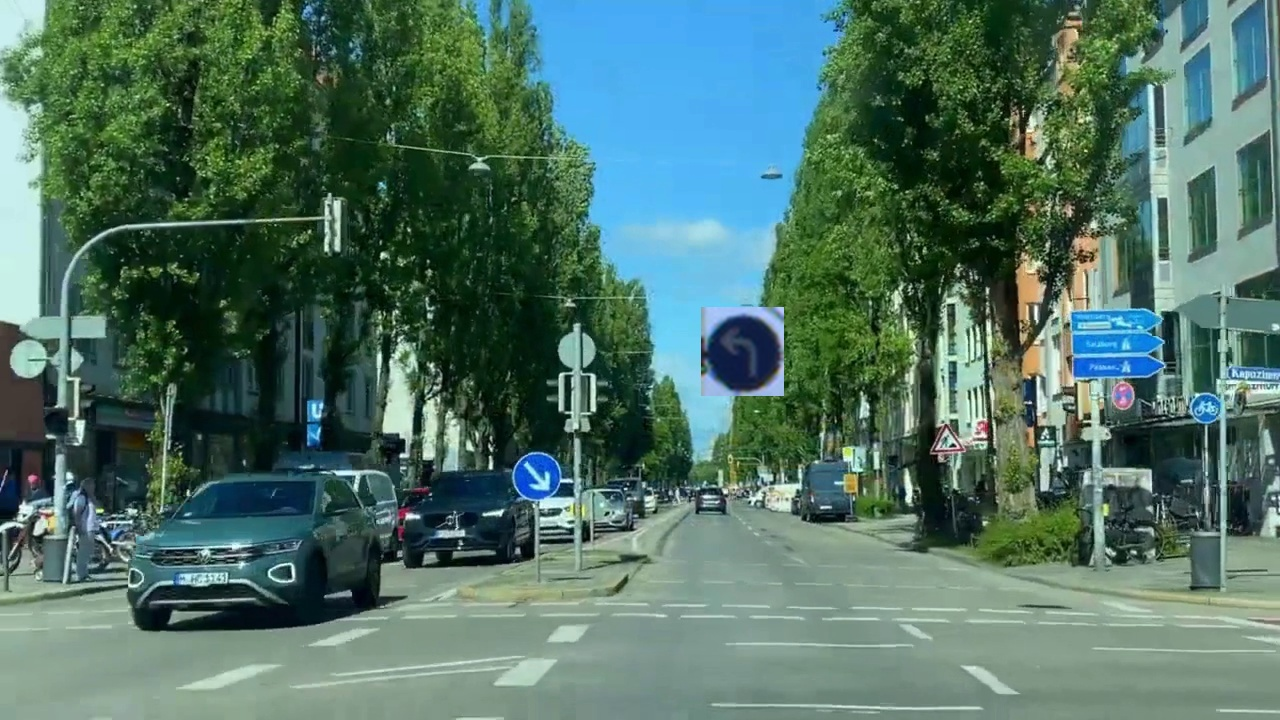Turn left: (701, 307, 784, 396)
